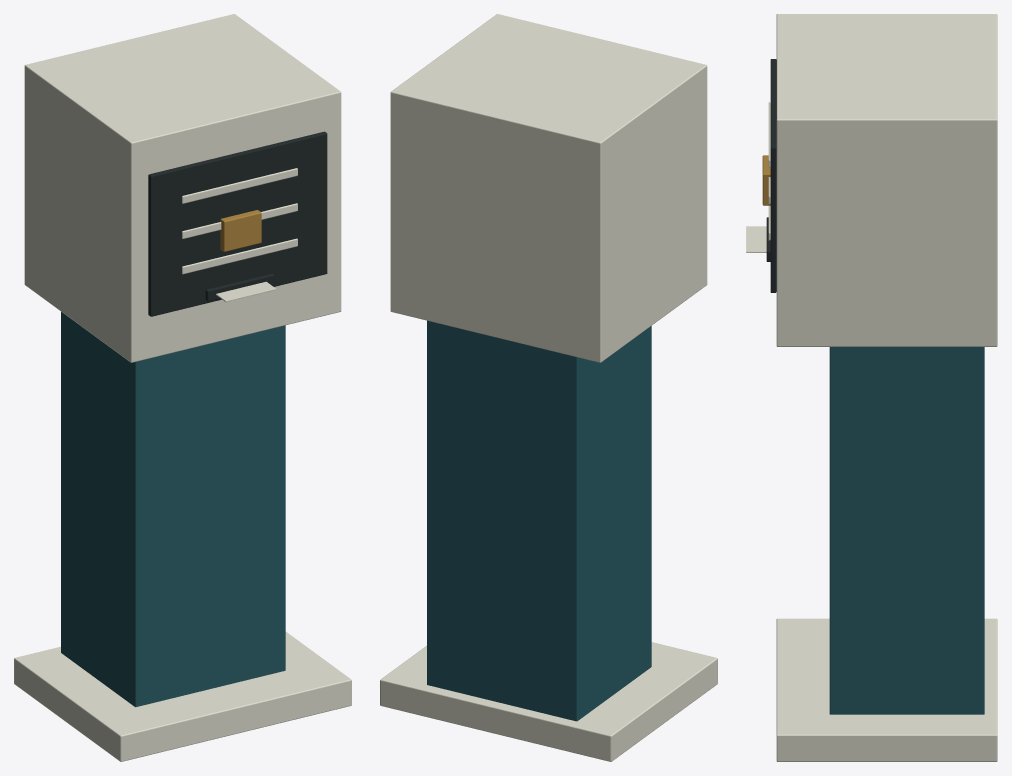
File: bank-queue-ticket-machine.glb
3 views of the same model, side by side, from view 1: azimuth 30°, elevation 25°; view 2: azimuth 150°, elevation 25°; view 3: azimuth 270°, elevation 25° (orthographic). The views are drawn at different scales.
Parts seen in each view (by area): view 1: Pedestal, Head, Display, Foot, Button, Interface_Line.002, Interface_Line, Interface_Line.001, Ticket_Slot, Paper; view 2: Head, Pedestal, Foot; view 3: Head, Pedestal, Foot, Display, Paper.
Boxes of the visible parts, x1,y1,x2,y2 form: Pedestal: (61,312,285,707); Head: (24,14,341,362); Display: (148,131,327,316); Foot: (14,631,351,761); Button: (220,210,261,251); Interface_Line.002: (182,238,297,274); Interface_Line: (182,168,297,203); Interface_Line.001: (182,203,297,238); Ticket_Slot: (205,273,274,301); Paper: (216,281,276,301); Head: (390,14,707,362); Pedestal: (427,320,651,721); Foot: (380,642,717,761); Head: (776,14,997,346); Pedestal: (829,347,984,714); Foot: (776,618,997,761); Display: (770,59,776,292); Paper: (746,226,766,252).
Bounding box in the file's own units: 0.55 × 1.4 × 0.5.
